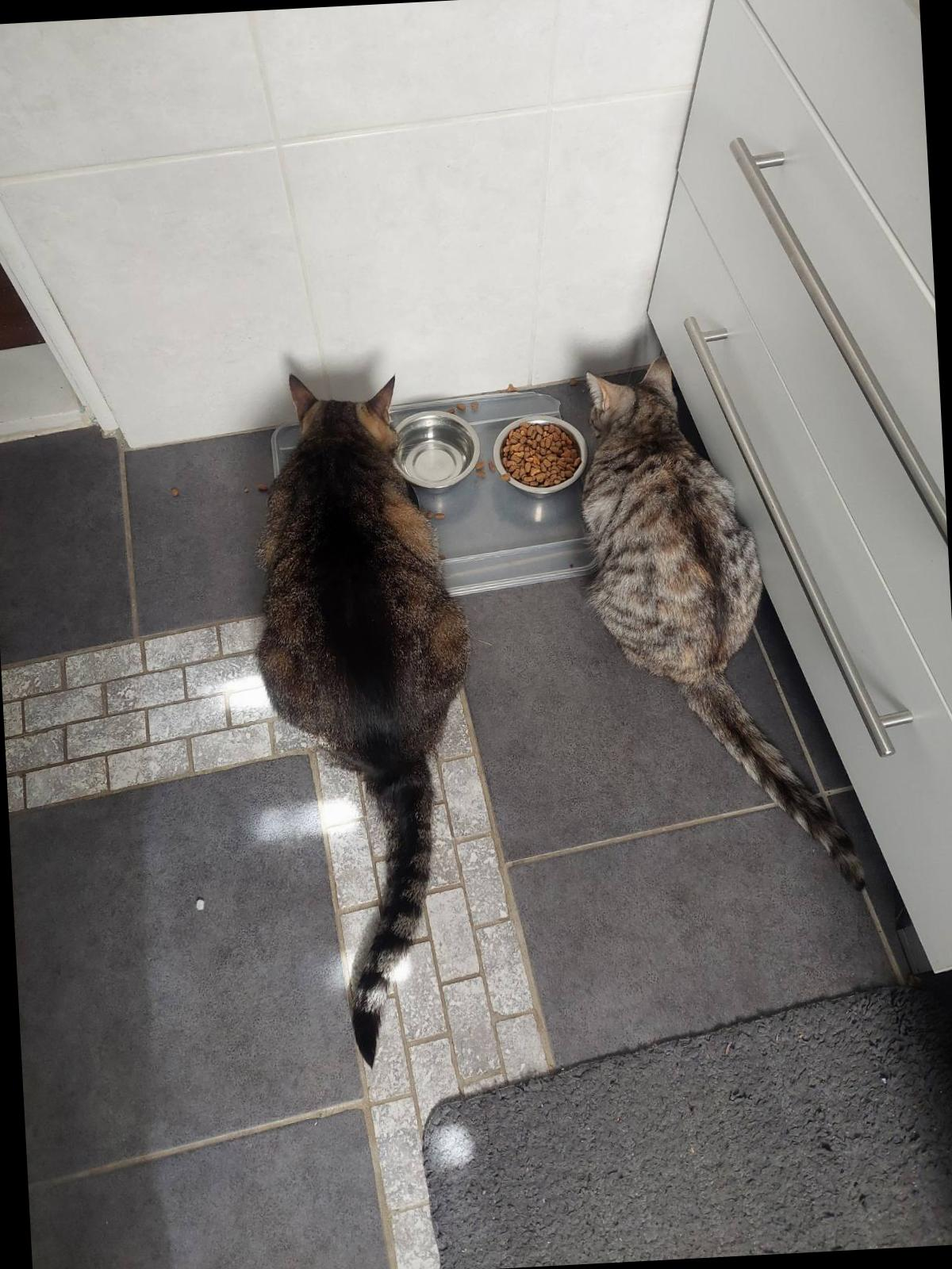macka: (240, 361, 494, 1075), (574, 342, 872, 907)
